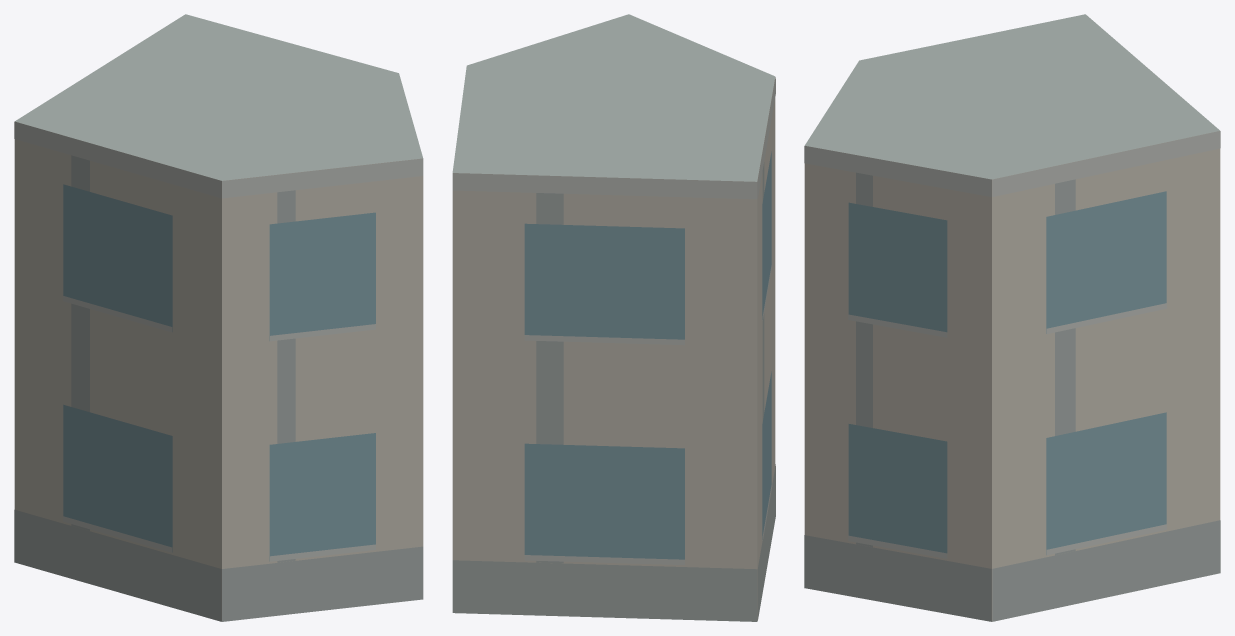
The model's file is survey-upis-32838684.glb.
The picture shows the model from 3 angles, left to right: view 1: azimuth 30°, elevation 25°; view 2: azimuth 150°, elevation 25°; view 3: azimuth 270°, elevation 25°; orthographic projection.
Visible parts, largest first — view 1: survey-upis-32838684.tmp; view 2: survey-upis-32838684.tmp; view 3: survey-upis-32838684.tmp.
Part boxes in pixels (<box>): survey-upis-32838684.tmp: <box>14,14,423,621</box>; survey-upis-32838684.tmp: <box>452,14,775,621</box>; survey-upis-32838684.tmp: <box>804,14,1220,621</box>.
Bounding box in the file's own units: 4.9 × 6.1 × 5.21.
